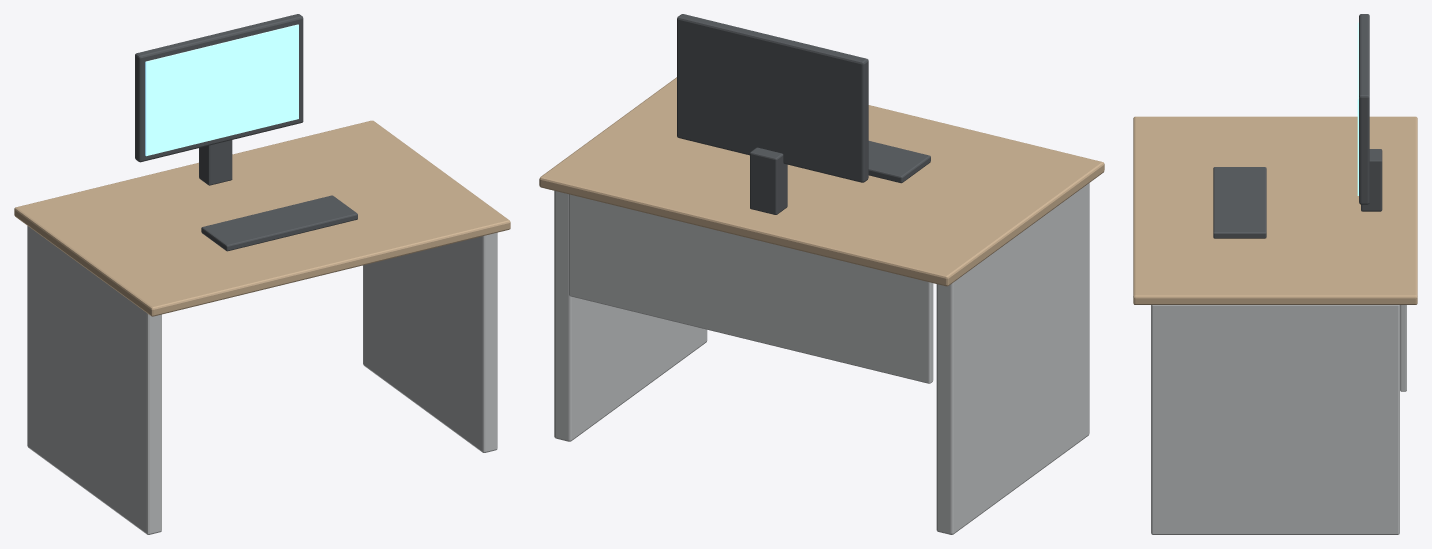
The model's file is back_office_workplace.glb.
3 views of the same model, side by side, from view 1: azimuth 30°, elevation 25°; view 2: azimuth 150°, elevation 25°; view 3: azimuth 270°, elevation 25° (orthographic). The views are drawn at different scales.
Parts seen in each view (by area): view 1: back_office_workplace; view 2: back_office_workplace; view 3: back_office_workplace.
Part boxes in pixels (left/top/right/bottom): back_office_workplace: left=14, top=14, right=510, bottom=534; back_office_workplace: left=539, top=14, right=1104, bottom=534; back_office_workplace: left=1133, top=14, right=1417, bottom=534.
Size of the model in its own units: 1.2 by 1.22 by 0.8.
